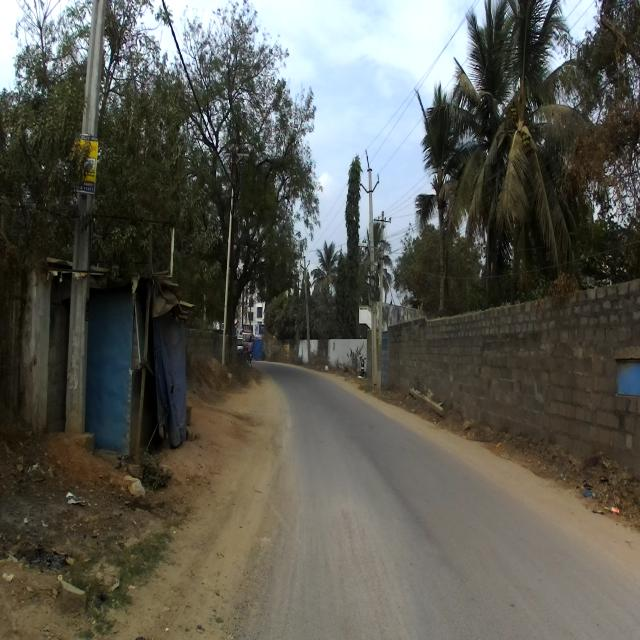electric pole ahead at: (69, 0, 111, 444)
